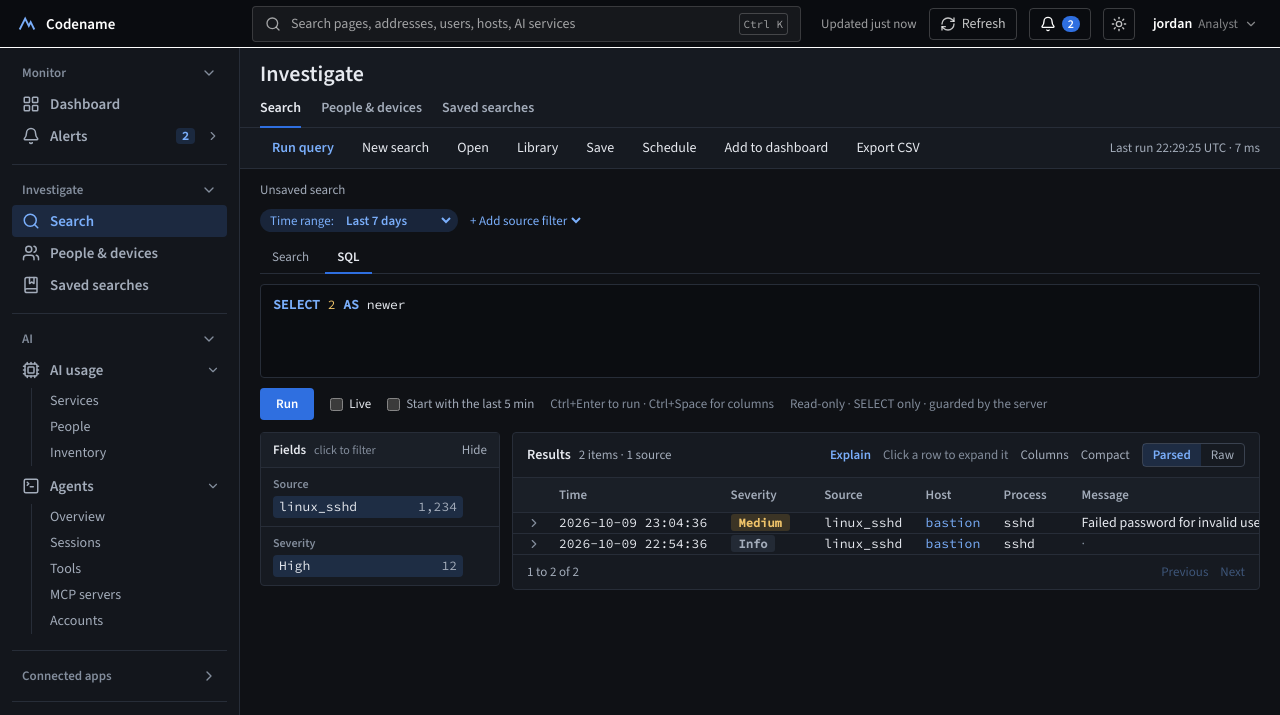
it: Recent searches (D90) › lists the last runs under Open and jumps back to one
This screenshot has width=1280, height=715.
Expected: the heading "Investigate" is shown, x1=260 y1=59 x2=364 y2=88
Step 1. Click the button "Run query" → (303,148), box x1=260 y1=132 x2=346 y2=164
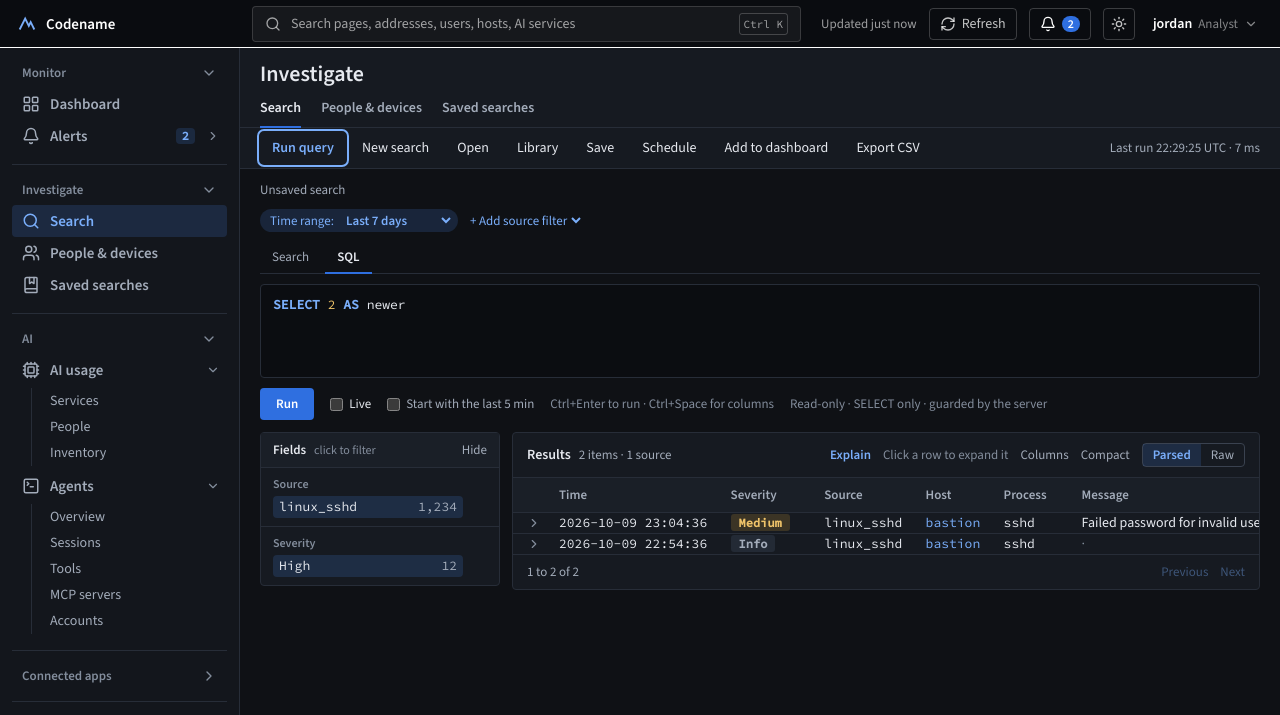
Expected: the text box labelled "SELECT 2 AS newer" is shown, x1=273 y1=296 x2=406 y2=313
Step 2. Click the button "Open" → (473,148), box x1=445 y1=132 x2=501 y2=164
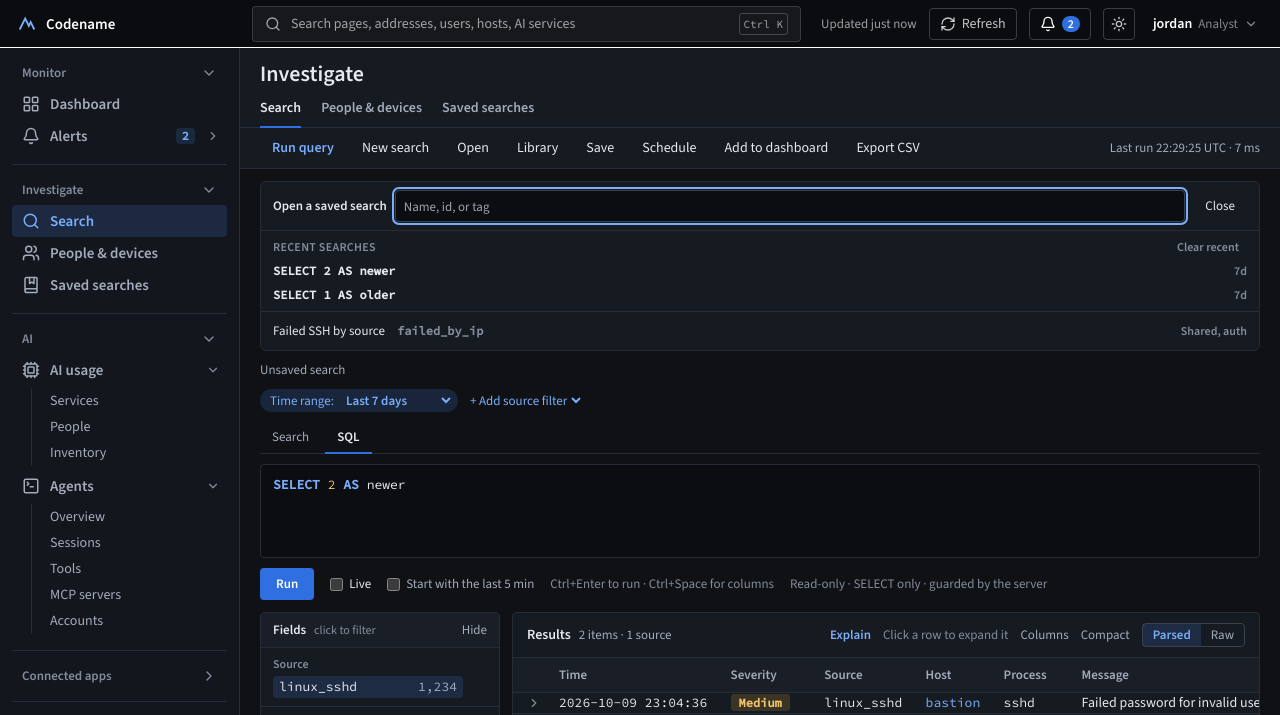
Expected: the button "SELECT 2 AS newer 7d" is shown, x1=261 y1=259 x2=1259 y2=283
Expected: the button "SELECT 1 AS older 7d" is shown
Step 3. Click the button "SELECT 1 AS older 7d" → (334,294), box x1=261 y1=283 x2=1259 y2=307
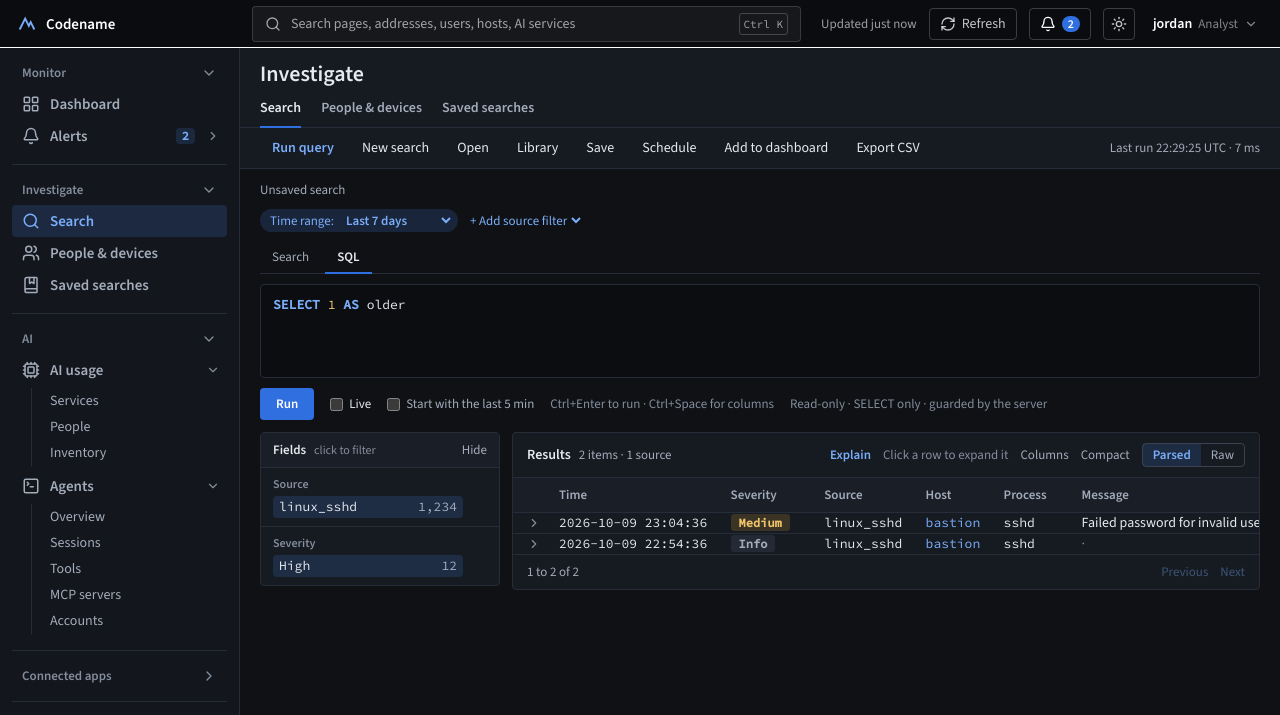
Expected: the dropdown labelled "Time range" shows "Last 7 days", x1=342 y1=211 x2=454 y2=230
Expected: the text box labelled "SELECT 1 AS older" is shown, x1=273 y1=296 x2=406 y2=313
